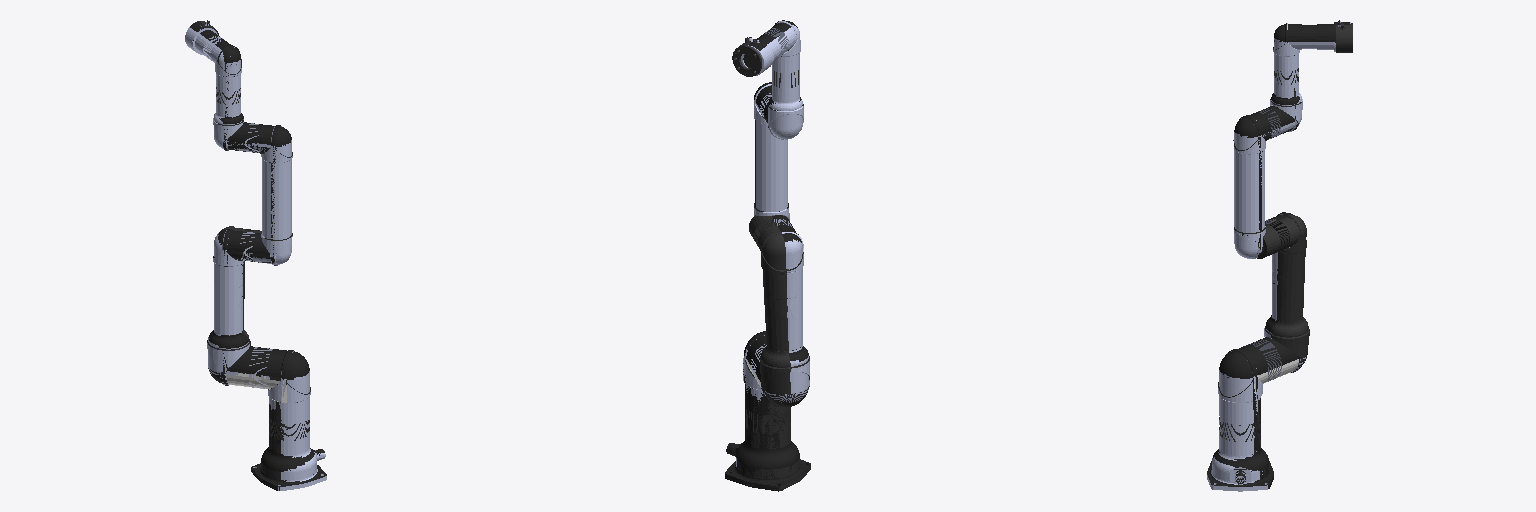
The robot description file, URDF, robot "robot_no_gripper.SLDASM":
<?xml version="1.0" encoding="utf-8"?>
<!-- This URDF was automatically created by SolidWorks to URDF Exporter! Originally created by [author] ([email redacted]) 
     Commit Version: 1.6.0-4-g7f85cfe  Build Version: 1.6.7995.38578
     For more information, please see http://wiki.ros.org/sw_urdf_exporter -->
<robot
  name="robot_no_gripper.SLDASM">
  <link
    name="base_link">
    <inertial>
      <origin
        xyz="0.00052883 -4.739E-08 0.065606"
        rpy="0 0 0" />
      <mass
        value="1.3785" />
      <inertia
        ixx="0.0019643"
        ixy="2.772E-09"
        ixz="-1.8781E-06"
        iyy="0.0019566"
        iyz="5.89E-10"
        izz="0.0020096" />
    </inertial>
    <visual>
      <origin
        xyz="0 0 0"
        rpy="0 0 0" />
      <geometry>
        <mesh
          filename="package://robot_no_gripper.SLDASM/meshes/base_link.STL" />
      </geometry>
      <material
        name="">
        <color
          rgba="0.79216 0.81961 0.93333 1" />
      </material>
    </visual>
    <collision>
      <origin
        xyz="0 0 0"
        rpy="0 0 0" />
      <geometry>
        <mesh
          filename="package://robot_no_gripper.SLDASM/meshes/base_link.STL" />
      </geometry>
    </collision>
  </link>
  <link
    name="link1">
    <inertial>
      <origin
        xyz="-4.4701E-08 0.06629 -0.04822"
        rpy="0 0 0" />
      <mass
        value="0.93289" />
      <inertia
        ixx="0.0013929"
        ixy="2.3048E-09"
        ixz="-1.3711E-09"
        iyy="0.0014071"
        iyz="1.9525E-06"
        izz="0.00099172" />
    </inertial>
    <visual>
      <origin
        xyz="0 0 0"
        rpy="0 0 0" />
      <geometry>
        <mesh
          filename="package://robot_no_gripper.SLDASM/meshes/link1.STL" />
      </geometry>
      <material
        name="">
        <color
          rgba="1 1 1 1" />
      </material>
    </visual>
    <collision>
      <origin
        xyz="0 0 0"
        rpy="0 0 0" />
      <geometry>
        <mesh
          filename="package://robot_no_gripper.SLDASM/meshes/link1.STL" />
      </geometry>
    </collision>
  </link>
  <joint
    name="joint1"
    type="revolute">
    <origin
      xyz="0 0 0.15719"
      rpy="1.5708 0 0.77334" />
    <parent
      link="base_link" />
    <child
      link="link1" />
    <axis
      xyz="0 1 0" />
    <limit
      lower="0"
      upper="0"
      effort="0"
      velocity="0" />
  </joint>
  <link
    name="link2">
    <inertial>
      <origin
        xyz="0.0083727 0.16606 -0.12481"
        rpy="0 0 0" />
      <mass
        value="1.3179" />
      <inertia
        ixx="0.0059577"
        ixy="-0.00023581"
        ixz="-3.4661E-06"
        iyy="0.0012927"
        iyz="-6.8839E-05"
        izz="0.0056022" />
    </inertial>
    <visual>
      <origin
        xyz="0 0 0"
        rpy="0 0 0" />
      <geometry>
        <mesh
          filename="package://robot_no_gripper.SLDASM/meshes/link2.STL" />
      </geometry>
      <material
        name="">
        <color
          rgba="0.24314 0.24314 0.24314 1" />
      </material>
    </visual>
    <collision>
      <origin
        xyz="0 0 0"
        rpy="0 0 0" />
      <geometry>
        <mesh
          filename="package://robot_no_gripper.SLDASM/meshes/link2.STL" />
      </geometry>
    </collision>
  </link>
  <joint
    name="joint2"
    type="revolute">
    <origin
      xyz="0 0.073909 0"
      rpy="0 0 0" />
    <parent
      link="link1" />
    <child
      link="link2" />
    <axis
      xyz="0 0 1" />
    <limit
      lower="0"
      upper="0"
      effort="0"
      velocity="0" />
  </joint>
  <link
    name="link3">
    <inertial>
      <origin
        xyz="0.0094575 0.16771 -0.039356"
        rpy="0 0 0" />
      <mass
        value="1.1005" />
      <inertia
        ixx="0.0035869"
        ixy="7.4373E-05"
        ixz="-1.703E-06"
        iyy="0.0010215"
        iyz="5.8823E-05"
        izz="0.0031614" />
    </inertial>
    <visual>
      <origin
        xyz="0 0 0"
        rpy="0 0 0" />
      <geometry>
        <mesh
          filename="package://robot_no_gripper.SLDASM/meshes/link3.STL" />
      </geometry>
      <material
        name="">
        <color
          rgba="0.24314 0.24314 0.24314 1" />
      </material>
    </visual>
    <collision>
      <origin
        xyz="0 0 0"
        rpy="0 0 0" />
      <geometry>
        <mesh
          filename="package://robot_no_gripper.SLDASM/meshes/link3.STL" />
      </geometry>
    </collision>
  </link>
  <joint
    name="joint3"
    type="revolute">
    <origin
      xyz="0 0.2845 0"
      rpy="0 0 0" />
    <parent
      link="link2" />
    <child
      link="link3" />
    <axis
      xyz="0 0 1" />
    <limit
      lower="0"
      upper="0"
      effort="0"
      velocity="0" />
  </joint>
  <link
    name="link4">
    <inertial>
      <origin
        xyz="0.0068267 0.068408 -0.0838"
        rpy="0 0 0" />
      <mass
        value="0.33399" />
      <inertia
        ixx="0.00074999"
        ixy="-7.6164E-10"
        ixz="-1.9103E-09"
        iyy="0.00014122"
        iyz="-4.2264E-06"
        izz="0.00076699" />
    </inertial>
    <visual>
      <origin
        xyz="0 0 0"
        rpy="0 0 0" />
      <geometry>
        <mesh
          filename="package://robot_no_gripper.SLDASM/meshes/link4.STL" />
      </geometry>
      <material
        name="">
        <color
          rgba="0.79216 0.81961 0.93333 1" />
      </material>
    </visual>
    <collision>
      <origin
        xyz="0 0 0"
        rpy="0 0 0" />
      <geometry>
        <mesh
          filename="package://robot_no_gripper.SLDASM/meshes/link4.STL" />
      </geometry>
    </collision>
  </link>
  <joint
    name="joint4"
    type="revolute">
    <origin
      xyz="0 0.259 -0.051491"
      rpy="0 0 0" />
    <parent
      link="link3" />
    <child
      link="link4" />
    <axis
      xyz="0 0 1" />
    <limit
      lower="0"
      upper="0"
      effort="0"
      velocity="0" />
  </joint>
  <link
    name="link5">
    <inertial>
      <origin
        xyz="0.0048851 0.04155 -0.0368"
        rpy="0 0 0" />
      <mass
        value="0.28635" />
      <inertia
        ixx="0.00040931"
        ixy="-1.0579E-10"
        ixz="4.7361E-10"
        iyy="0.00039293"
        iyz="3.5569E-05"
        izz="0.00012323" />
    </inertial>
    <visual>
      <origin
        xyz="0 0 0"
        rpy="0 0 0" />
      <geometry>
        <mesh
          filename="package://robot_no_gripper.SLDASM/meshes/link5.STL" />
      </geometry>
      <material
        name="">
        <color
          rgba="0.18039 0.18039 0.18039 1" />
      </material>
    </visual>
    <collision>
      <origin
        xyz="0 0 0"
        rpy="0 0 0" />
      <geometry>
        <mesh
          filename="package://robot_no_gripper.SLDASM/meshes/link5.STL" />
      </geometry>
    </collision>
  </link>
  <joint
    name="join5"
    type="revolute">
    <origin
      xyz="0 0.13684 -0.083609"
      rpy="0 -0.77334 0" />
    <parent
      link="link4" />
    <child
      link="link5" />
    <axis
      xyz="0 1 0" />
    <limit
      lower="0"
      upper="0"
      effort="0"
      velocity="0" />
  </joint>
  <link
    name="link6">
    <inertial>
      <origin
        xyz="0.0049462 3.0864E-05 -0.027337"
        rpy="0 0 0" />
      <mass
        value="0.065353" />
      <inertia
        ixx="2.8836E-05"
        ixy="6.9117E-09"
        ixz="-7.6528E-08"
        iyy="2.884E-05"
        iyz="2.1228E-08"
        izz="3.5117E-05" />
    </inertial>
    <visual>
      <origin
        xyz="0 0 0"
        rpy="0 0 0" />
      <geometry>
        <mesh
          filename="package://robot_no_gripper.SLDASM/meshes/link6.STL" />
      </geometry>
      <material
        name="">
        <color
          rgba="0.24314 0.24314 0.24314 1" />
      </material>
    </visual>
    <collision>
      <origin
        xyz="0 0 0"
        rpy="0 0 0" />
      <geometry>
        <mesh
          filename="package://robot_no_gripper.SLDASM/meshes/link6.STL" />
      </geometry>
    </collision>
  </link>
  <joint
    name="joint6"
    type="revolute">
    <origin
      xyz="0 0.045662 -0.0912"
      rpy="0 0 0" />
    <parent
      link="link5" />
    <child
      link="link6" />
    <axis
      xyz="0 0 1" />
    <limit
      lower="0"
      upper="0"
      effort="0"
      velocity="0" />
  </joint>
</robot>

--- Render facts (derived) ---
Views: 3 orthographic renders of the robot side by side, from view 1: azimuth 30°, elevation 25°; view 2: azimuth 150°, elevation 25°; view 3: azimuth 270°, elevation 25°.
Model robot_no_gripper.SLDASM with 7 links and 6 joints (6 revolute), rooted at base_link, posed every joint at zero.
Visible links, largest first — view 1: link5, link4, base_link, link3, link1; view 2: base_link, link5, link2, link3, link6; view 3: link4, link5, link2, base_link.
Link boxes in pixels (bbox=[...]): link5: bbox=[190, 22, 326, 486]; link4: bbox=[192, 23, 324, 479]; base_link: bbox=[185, 22, 326, 490]; link3: bbox=[210, 63, 324, 490]; link1: bbox=[226, 373, 307, 402]; base_link: bbox=[736, 21, 809, 466]; link5: bbox=[725, 20, 810, 491]; link2: bbox=[749, 215, 809, 406]; link3: bbox=[726, 103, 810, 490]; link6: bbox=[732, 37, 761, 76]; link4: bbox=[1218, 22, 1340, 482]; link5: bbox=[1207, 20, 1349, 488]; link2: bbox=[1257, 215, 1309, 372]; base_link: bbox=[1207, 21, 1350, 491].
Size in the robot's own frame: 0.2253 by 0.3054 by 1.01 metres.
Meshes: 7 distinct files referenced, 7 mesh visuals loaded (7 binary STL).